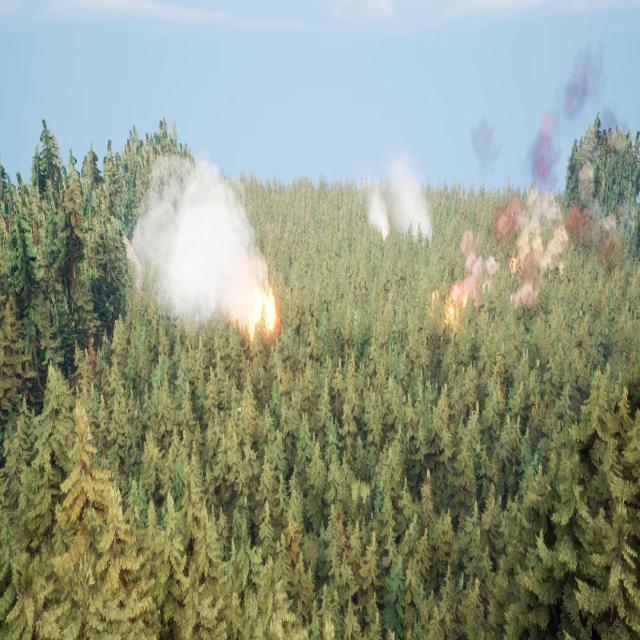fire: (240, 286, 288, 335), (430, 284, 475, 324)
smoke: (460, 39, 622, 311), (126, 152, 268, 337), (363, 145, 436, 246)
